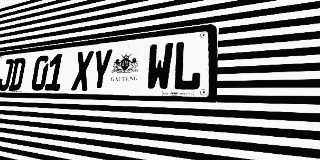0: (30, 55, 50, 91)
1: (44, 53, 65, 91)
D: (8, 57, 26, 91)
J: (0, 59, 14, 91)
L: (172, 39, 203, 91)
W: (145, 42, 174, 91)
X: (71, 50, 94, 91)
Y: (89, 48, 114, 91)
